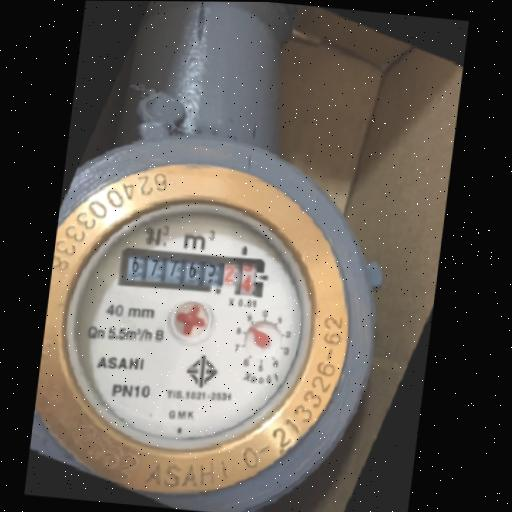2: (223, 263, 238, 287)
4: (239, 263, 256, 294)
5: (204, 263, 220, 286)
6: (126, 255, 143, 280), (184, 260, 201, 284)
7: (146, 257, 163, 281), (166, 259, 181, 283)
border_water_meter_number: (118, 245, 269, 301)
